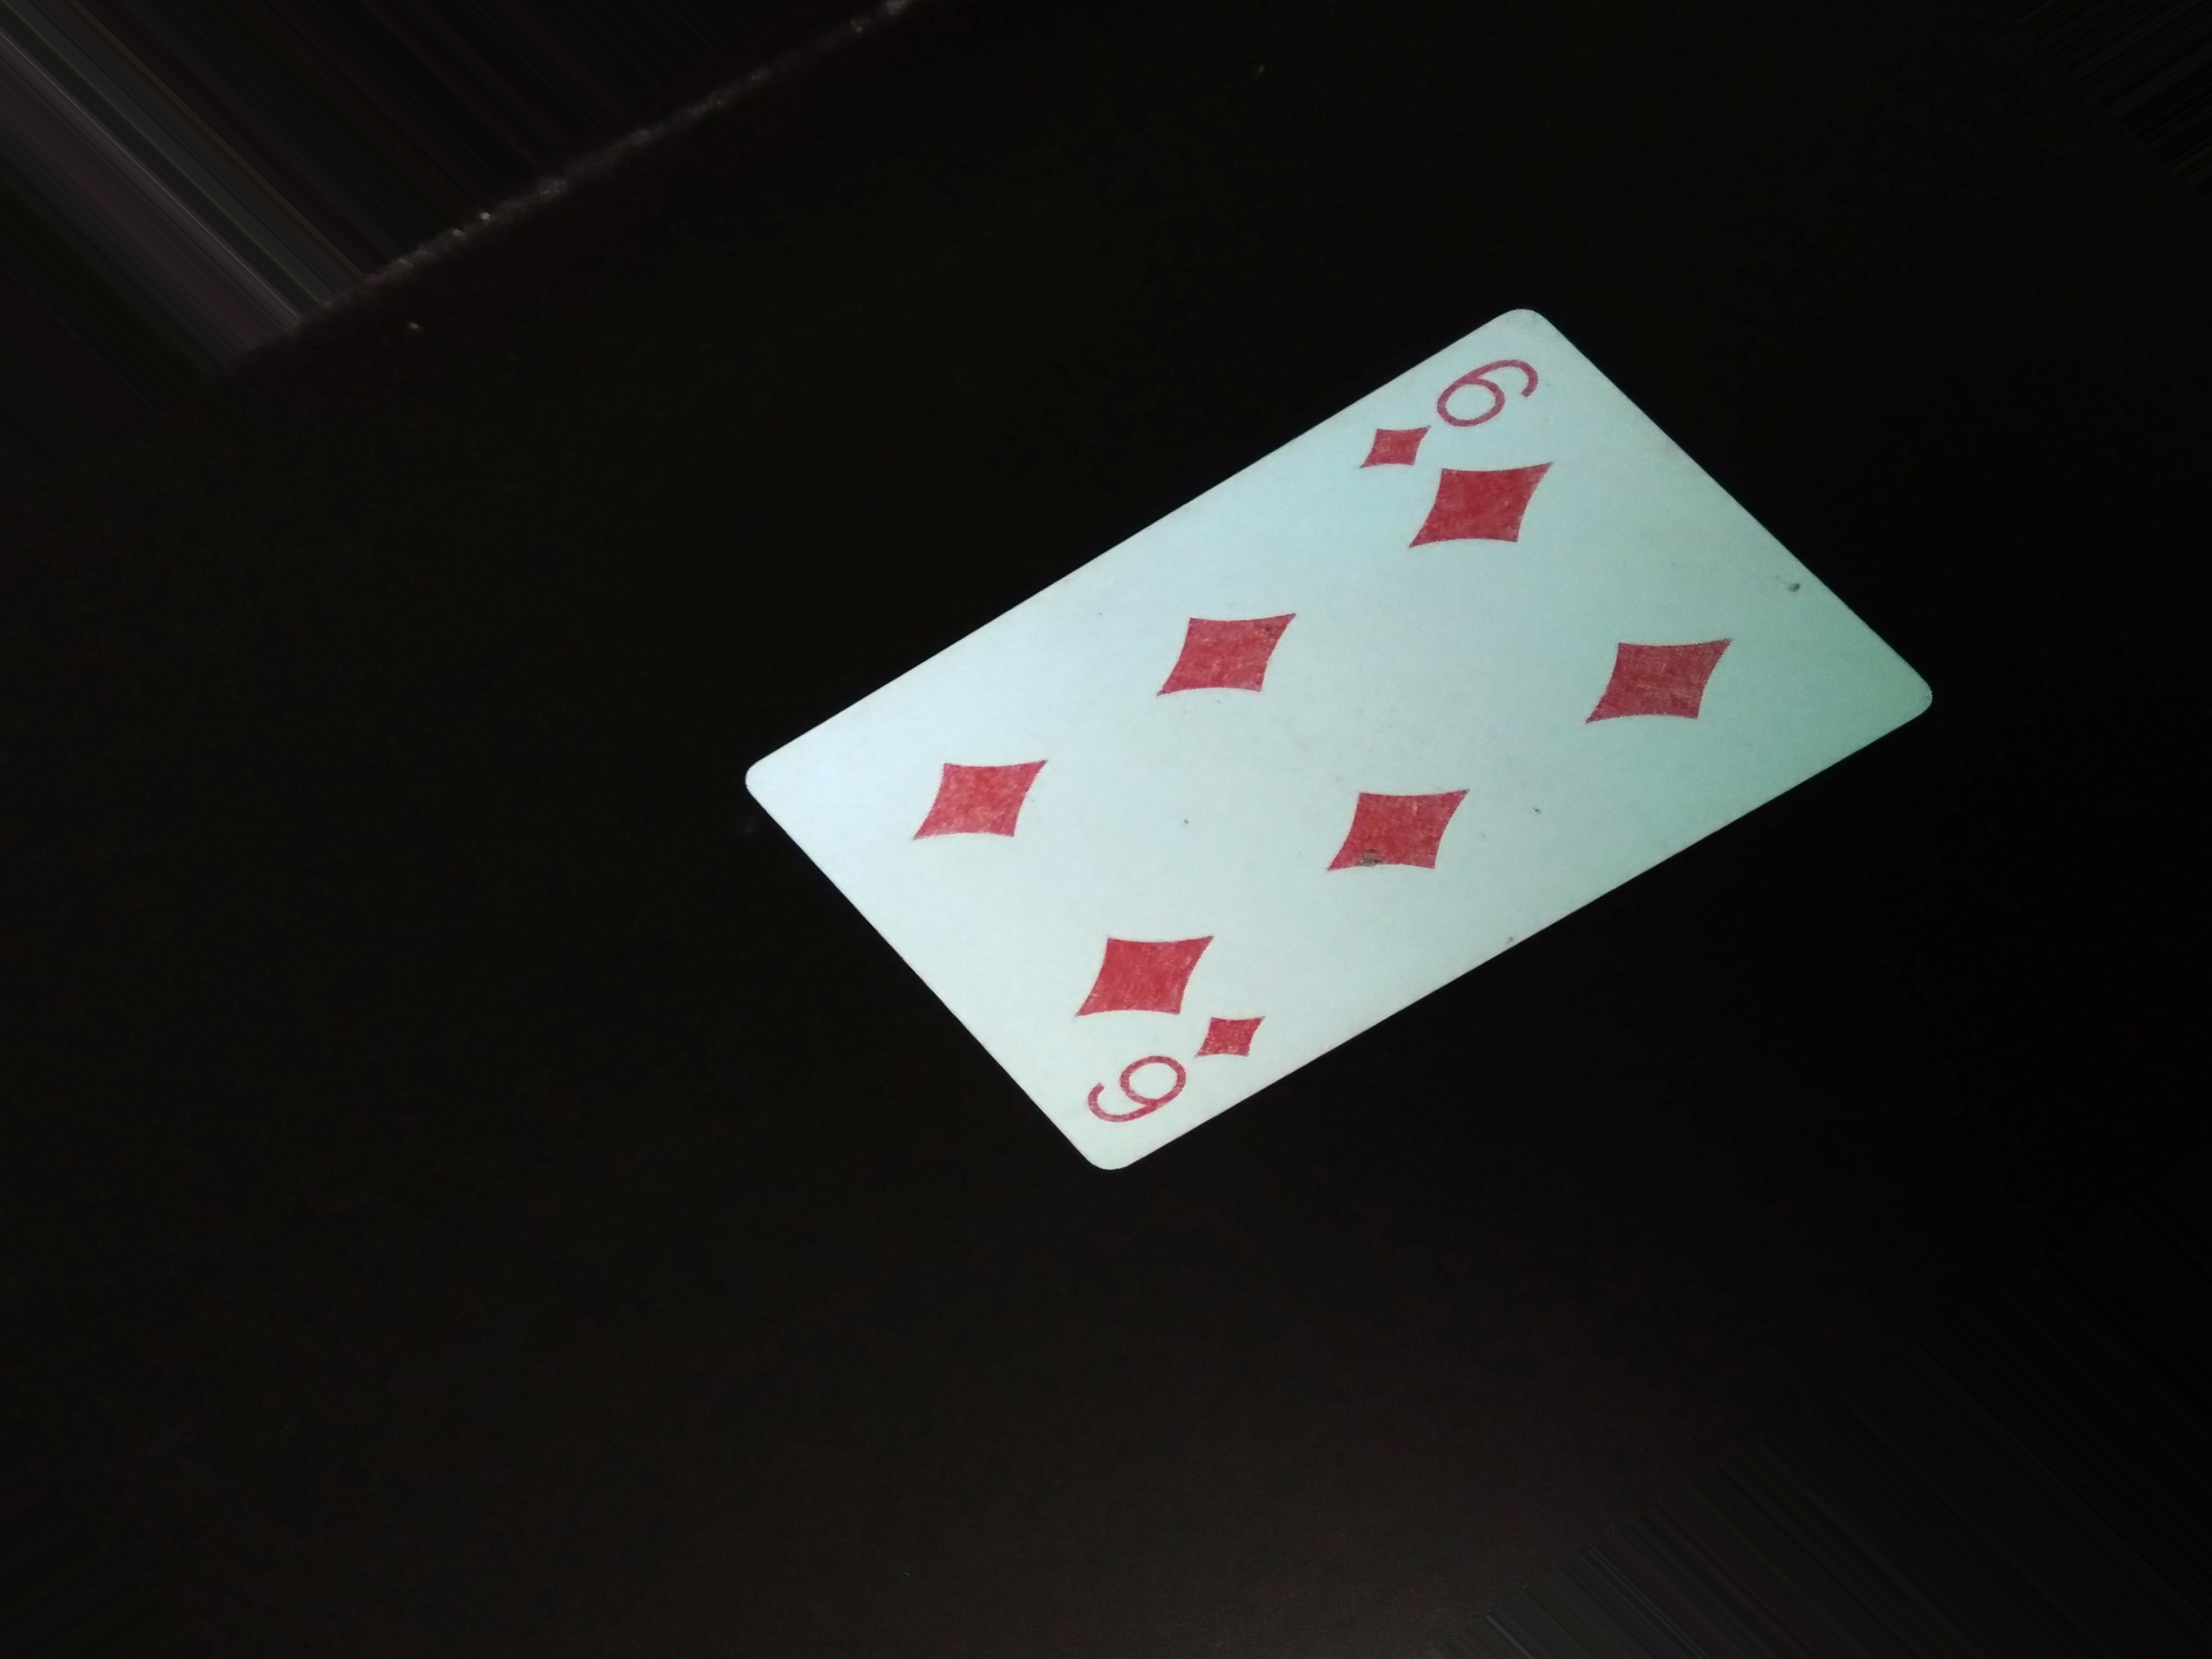6D: (1080, 1016, 1251, 1126)
